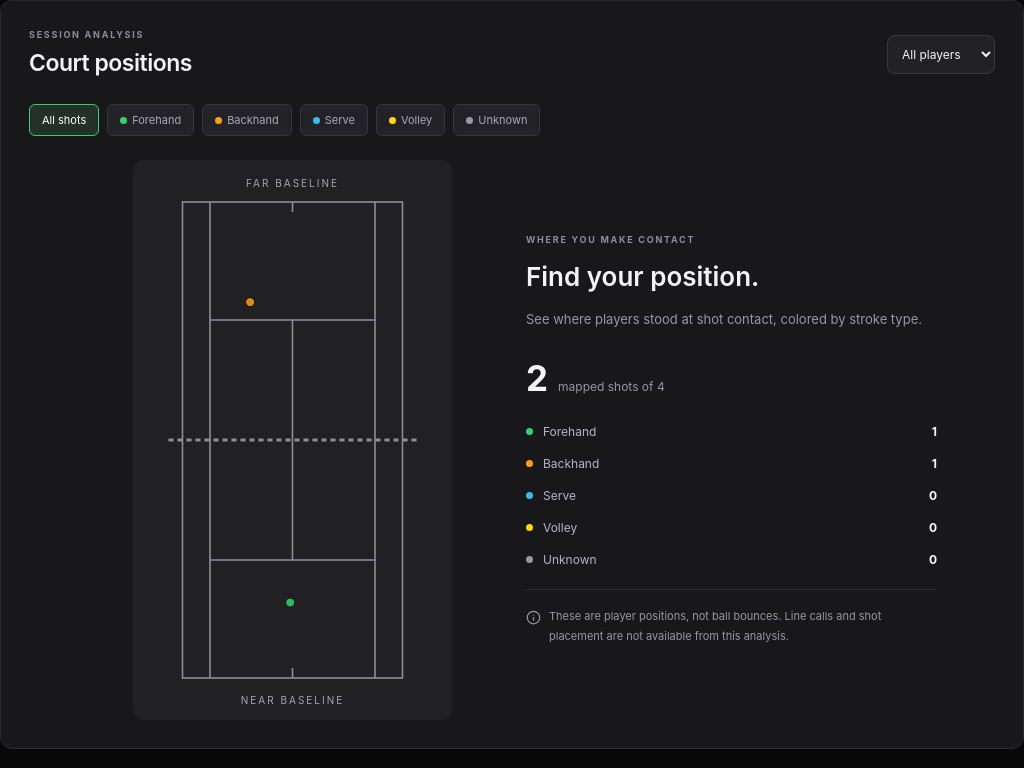
Test: tennis session experience › filters court positions by player and stroke without synthesizing missing points
This screenshot has width=1024, height=768.
Click the button "Backhand" at (247, 120), box [202,104,292,136]
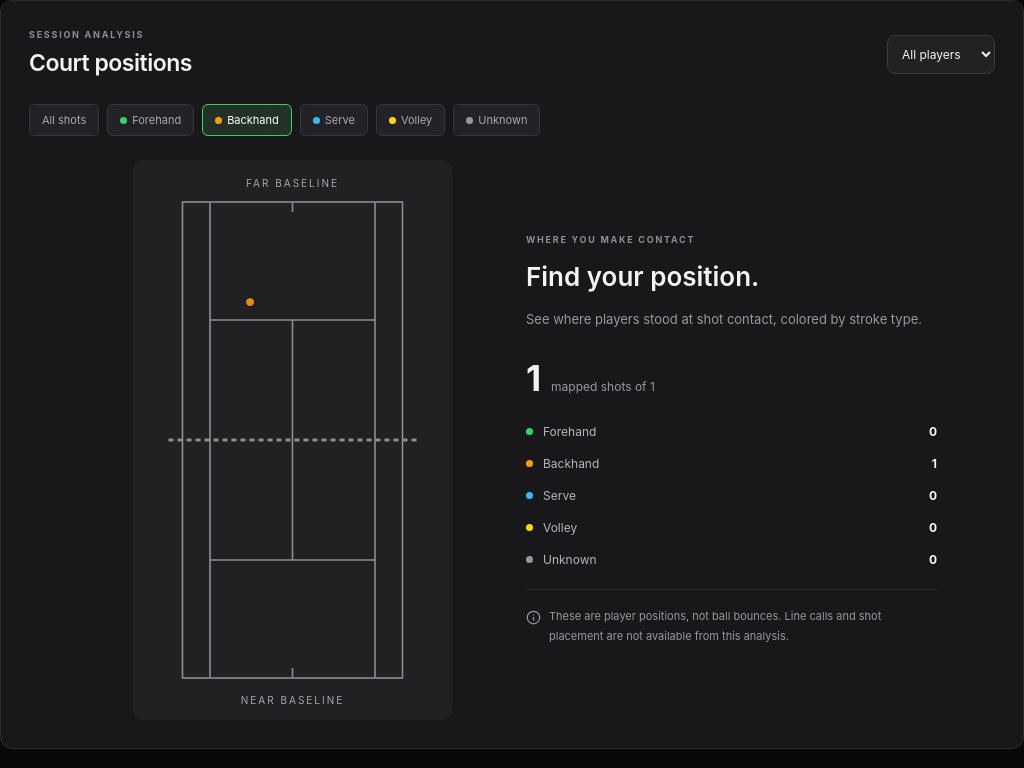
Select "Near player" in the dropdown named "Statistics player" at (941, 55), box [887,35,995,74]
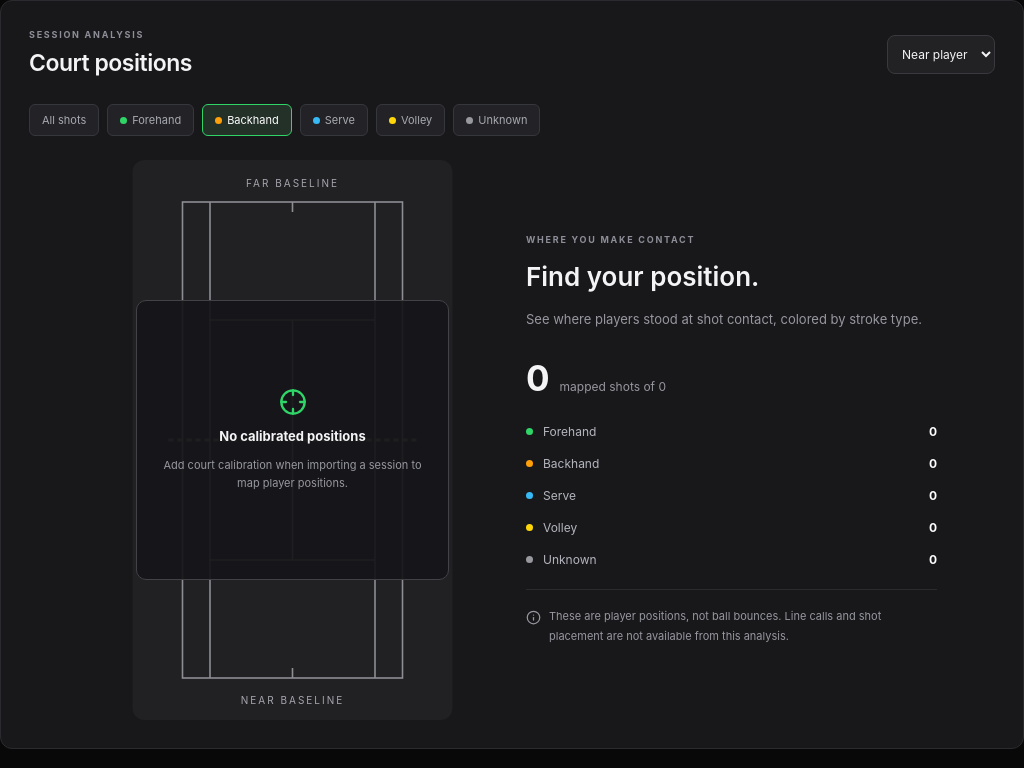
Expected: the text "not ball bounces" is shown, [549,609,881,642]
Expected: the text "No calibrated positions" is shown, [219,428,366,444]
